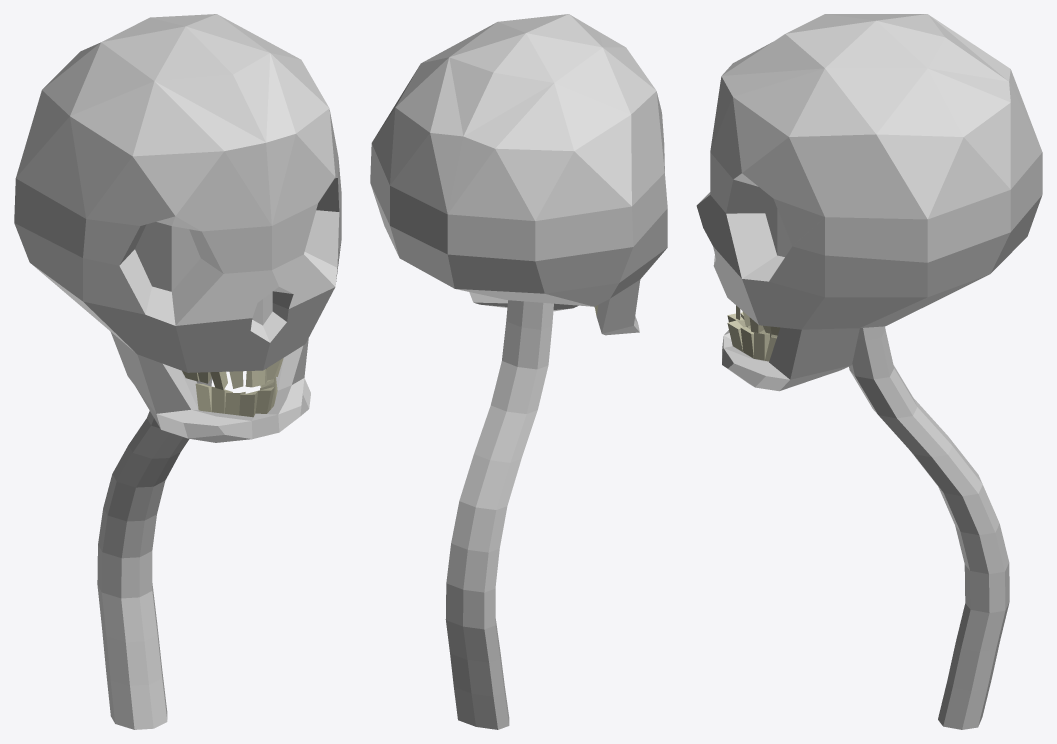
File: Skeleton.fbx
The picture shows the model from 3 angles, left to right: view 1: azimuth 30°, elevation 25°; view 2: azimuth 150°, elevation 25°; view 3: azimuth 270°, elevation 25°; orthographic projection. The views are drawn at different scales.
Parts seen in each view (by area): view 1: Icosphere; view 2: Icosphere; view 3: Icosphere.
Part boxes in pixels (x1=…): Icosphere: x1=14, y1=14, x2=341, y2=729; Icosphere: x1=370, y1=14, x2=667, y2=729; Icosphere: x1=696, y1=14, x2=1042, y2=729.
Size of the model in its own units: 213 by 510 by 229.
